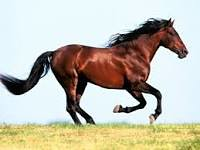horse: (4, 6, 189, 140)
